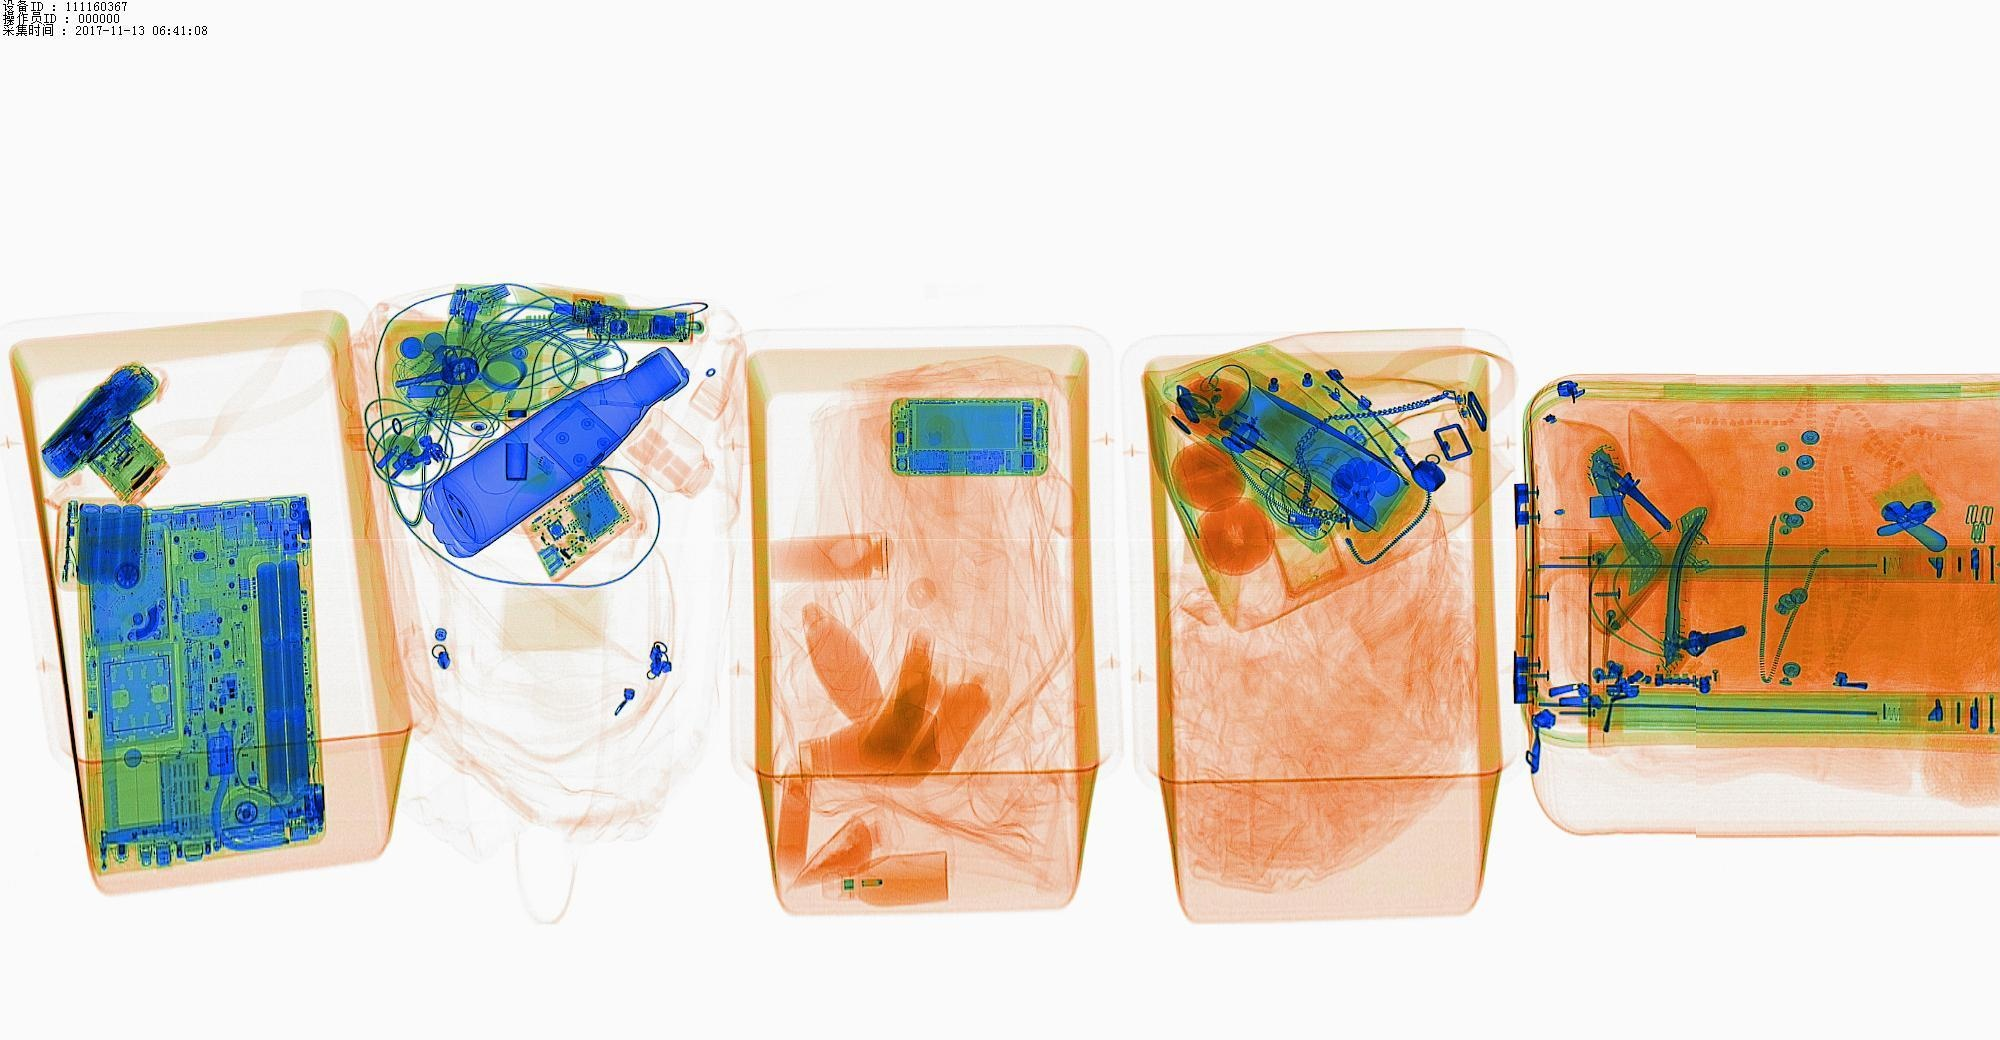core: (54, 498, 148, 578)
